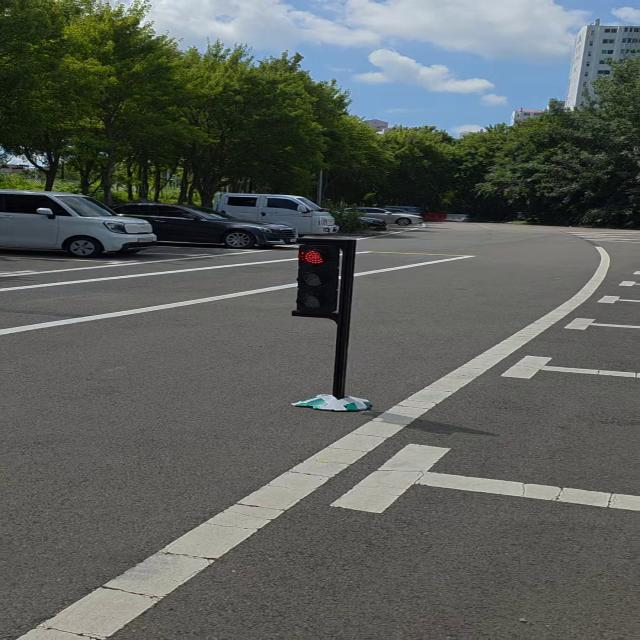red: (286, 230, 356, 321)
